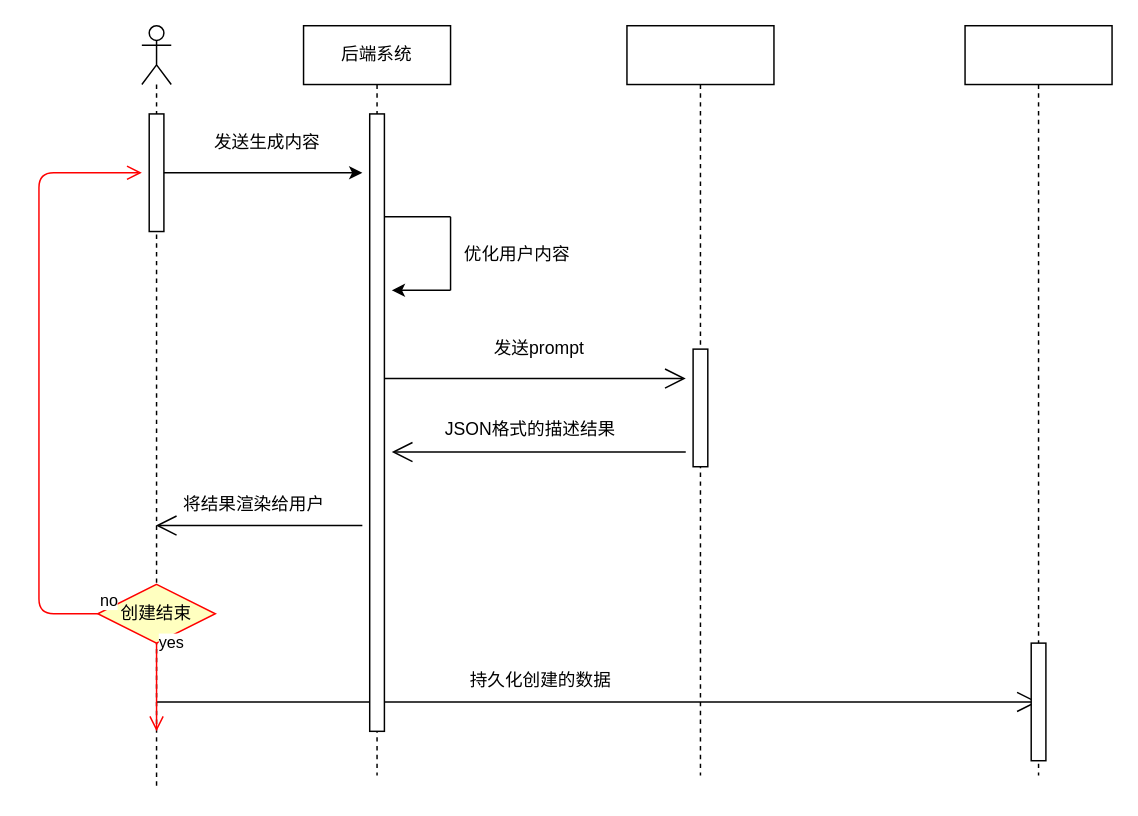
Image size: 1138x816. Some labels were removed from this diagram. The shapes that lost their labels are listed below. From the top down, each one's box as (x1, y1, x2, y2) in pixels, then its label:
(625, 24, 774, 775): GPT模型
(964, 24, 1112, 775): 数据库
